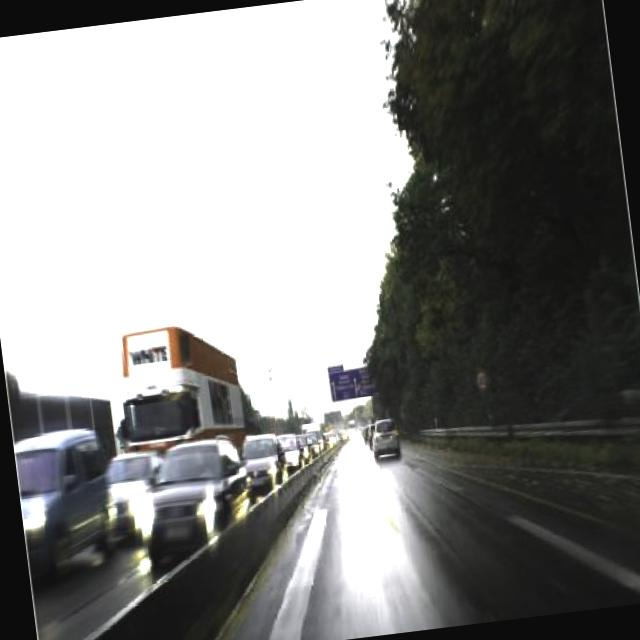Ograniczenie predkosci do 60: (472, 366, 494, 396)
